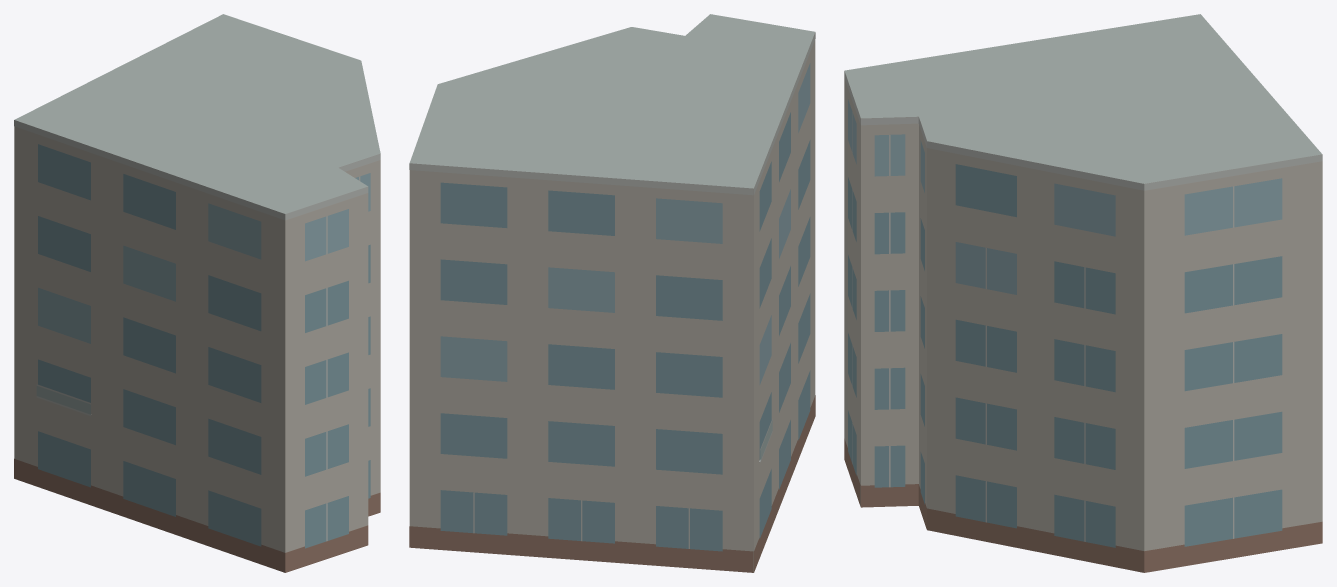
Rendered from survey-upis-32539638.glb.
3 renders of one model, left to right at view 1: azimuth 30°, elevation 25°; view 2: azimuth 150°, elevation 25°; view 3: azimuth 270°, elevation 25°, orthographic. The views are drawn at different scales.
Parts seen in each view (by area): view 1: survey-upis-32539638.tmp; view 2: survey-upis-32539638.tmp; view 3: survey-upis-32539638.tmp.
Part boxes in pixels (x1,y1,x2,y2): survey-upis-32539638.tmp: (14,14,380,572); survey-upis-32539638.tmp: (409,14,815,572); survey-upis-32539638.tmp: (844,14,1322,572).
Bounding box in the file's own units: 12.94 × 13.8 × 15.38.
